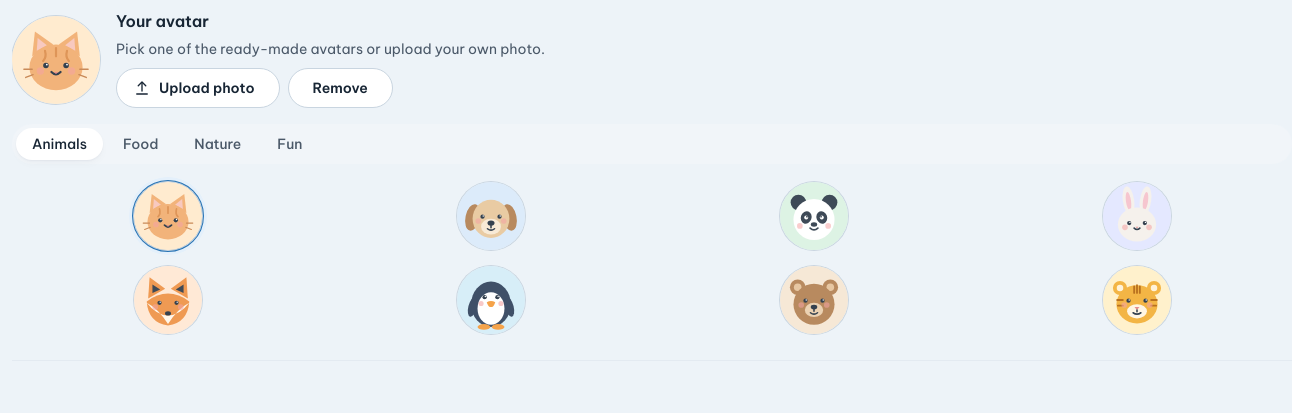
Scenario: AvatarPicker › shows the error when the avatar cannot be saved, and keeps the old one
The image size is (1292, 413).
Click the radio button named "Fox" at (168, 300), box [132,264,204,336]
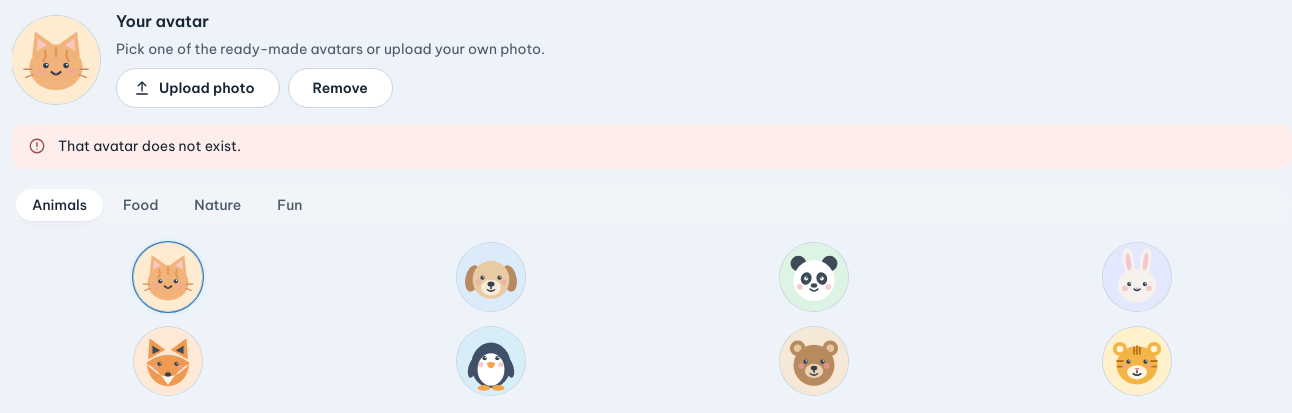
Expected: the radio button named "Cat" is checked, [132,241,204,313]
Now the message reads "That avatar does not exist.", box [58,137,241,155]
